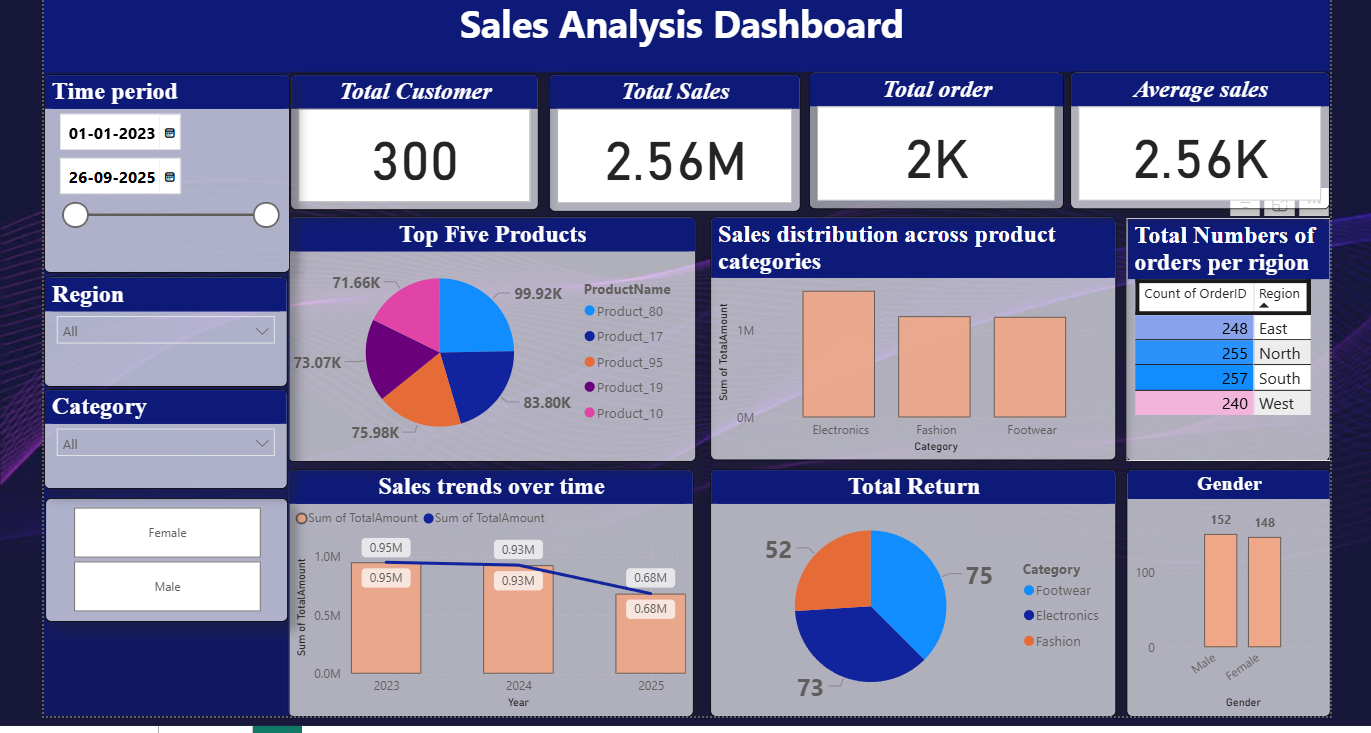

The page's visual inventory and layout, read from the dashboard file:
{"tool":"powerbi","page":{"name":"Page 1","canvas":[1280,720],"ordinal":0},"visuals":[{"type":"textbox","box":[0,0,245.1,719],"z":0,"group":"g1"},{"type":"cardVisual","title":"Total Sales","fields":{"Data":["Sum(project1 orders.TotalAmount)"]},"box":[502.6,80.9,250,136.8],"z":0},{"type":"slicer","title":"Time period","fields":{"Values":["project1 orders.OrderDate"]},"box":[0,80.9,245.1,197.8],"z":1000,"group":"g2"},{"type":"tableEx","title":"Total Numbers of orders per rigion","fields":{"Values":["project1 orders.OrderID","project1 orders.Region"]},"box":[1077.3,223.9,202.8,242.6],"z":1000},{"type":"lineClusteredColumnComboChart","title":"Sales trends over time","fields":{"Category":["project1 orders.OrderDate.Variation.Date Hierarchy.Year","project1 orders.OrderDate.Variation.Date Hierarchy.Quarter","project1 orders.OrderDate.Variation.Date Hierarchy.Month","project1 orders.OrderDate.Variation.Date Hierarchy.Day"],"Y":["Sum(project1 orders.TotalAmount)"],"Y2":["Sum(project1 orders.TotalAmount)"]},"box":[242.6,473.7,404.3,246.3],"z":2000},{"type":"slicer","fields":{"Values":["project1 customers.Gender"]},"box":[1.2,502.6,241.3,123.2],"z":2000,"group":"g2"},{"type":"columnChart","title":"Sales distribution across product categories","fields":{"Category":["project1 products.Category"],"Y":["Sum(project1 orders.TotalAmount)"]},"box":[663,222.7,404.3,242.6],"z":3000},{"type":"slicer","title":"Region","fields":{"Values":["project1 orders.Region"]},"box":[0,282.4,242.6,109.5],"z":3000,"group":"g2"},{"type":"pieChart","title":"Top Five Products","fields":{"Category":["project1 products.ProductName"],"Y":["Sum(project1 orders.TotalAmount)"]},"box":[242.6,222.7,406.8,243.8],"z":4000},{"type":"slicer","title":"Category","fields":{"Values":["project1 products.Category"]},"box":[0,394.4,242.6,99.5],"z":4000,"group":"g2"},{"type":"cardVisual","title":"Total Customer","fields":{"Data":["CountNonNull(project1 customers.CustomerID)"]},"box":[245.1,80.9,247.5,135.6],"z":5000},{"type":"cardVisual","title":"Total order","fields":{"Data":["CountNonNull(project1 order_details.OrderID)"]},"box":[761.3,78.4,253.8,136.8],"z":6000},{"type":"textbox","box":[0,0,1279.7,78.5],"z":7000},{"type":"cardVisual","title":"Average sales","fields":{"Data":["Avg(project1 orders.TotalAmount)"]},"box":[1021.3,78.4,258.7,136.8],"z":8000},{"type":"donutChart","title":"Total Return","fields":{"Y":["Count(project1 returns.ReturnID)"],"Category":["project1 products.Category"]},"box":[663,473.7,404.3,246.3],"z":9000},{"type":"group","id":"g1","title":"Group 1","box":[0,0,245.1,719],"z":10000},{"type":"columnChart","title":"Gender","fields":{"Category":["project1 customers.Gender"],"Y":["CountNonNull(project1 customers.CustomerID)"]},"box":[1077,474,203,246],"z":11000},{"type":"group","id":"g2","title":"Group 2","box":[0,80.9,245.1,544.9],"z":11001,"group":"g1"}]}

Visuals, with their boxes in screenshot pixels (x1, y1, x2, y2):
textbox: BBox(39, 25, 285, 732)
"Total Sales" cardVisual: BBox(543, 106, 794, 243)
"Time period" slicer: BBox(39, 106, 285, 304)
"Total Numbers of orders per rigion" tableEx: BBox(1119, 249, 1323, 493)
"Sales trends over time" lineClusteredColumnComboChart: BBox(282, 500, 688, 732)
slicer - project1 customers.Gender: BBox(40, 529, 282, 652)
"Sales distribution across product categories" columnChart: BBox(704, 248, 1109, 491)
"Region" slicer: BBox(39, 308, 282, 418)
"Top Five Products" pieChart: BBox(282, 248, 690, 493)
"Category" slicer: BBox(39, 420, 282, 520)
"Total Customer" cardVisual: BBox(285, 106, 533, 242)
"Total order" cardVisual: BBox(802, 104, 1057, 241)
textbox: BBox(39, 25, 1322, 104)
"Average sales" cardVisual: BBox(1063, 104, 1322, 241)
"Total Return" donutChart: BBox(704, 500, 1109, 732)
"Group 1" group: BBox(39, 25, 285, 732)
"Gender" columnChart: BBox(1119, 500, 1322, 732)
"Group 2" group: BBox(39, 106, 285, 652)
